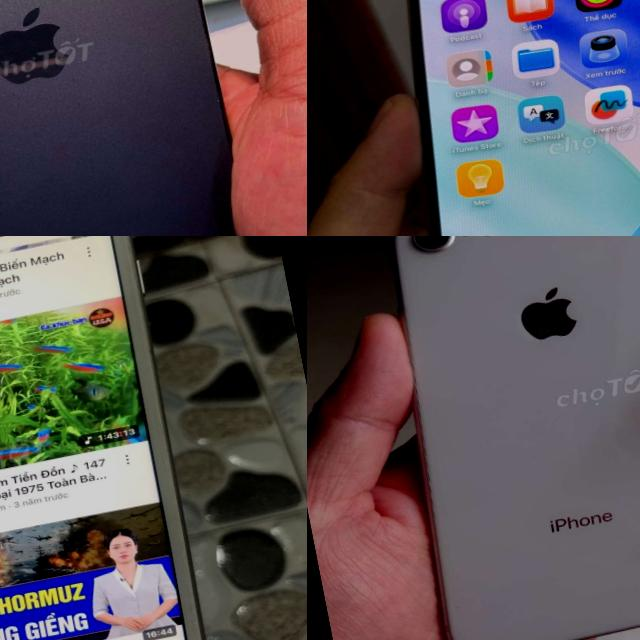gen_15: (0, 0, 297, 236), (349, 0, 640, 236)
gen_7_8: (354, 236, 640, 640), (0, 236, 243, 640)
